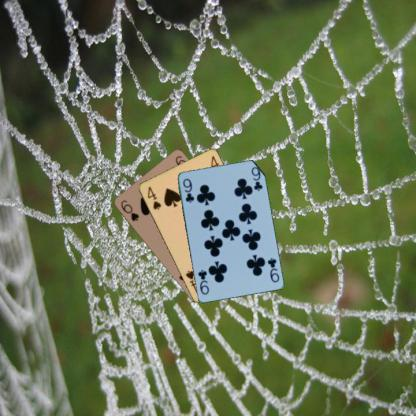4s: (144, 184, 162, 211)
6s: (118, 198, 140, 222)
9c: (265, 254, 280, 284), (180, 176, 196, 204)
